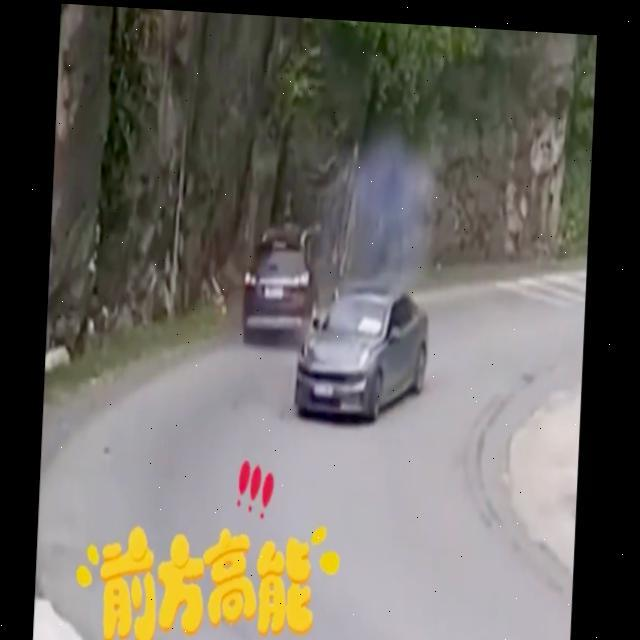single accident: (175, 137, 328, 352)
